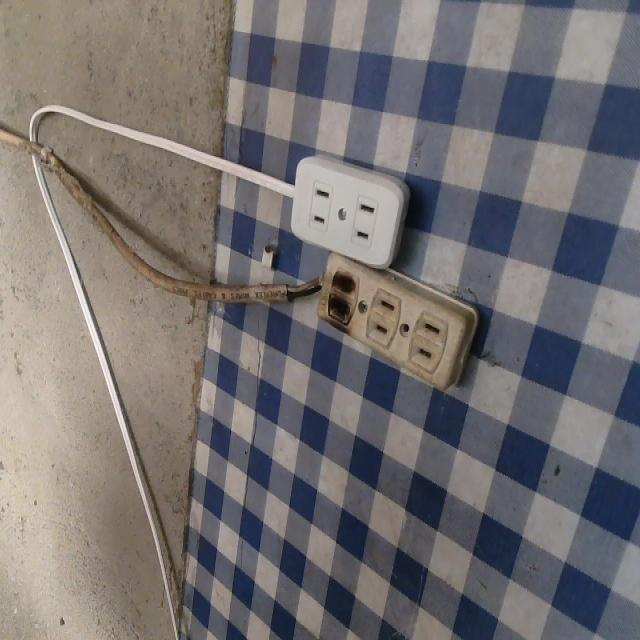-: (320, 261, 361, 335)
